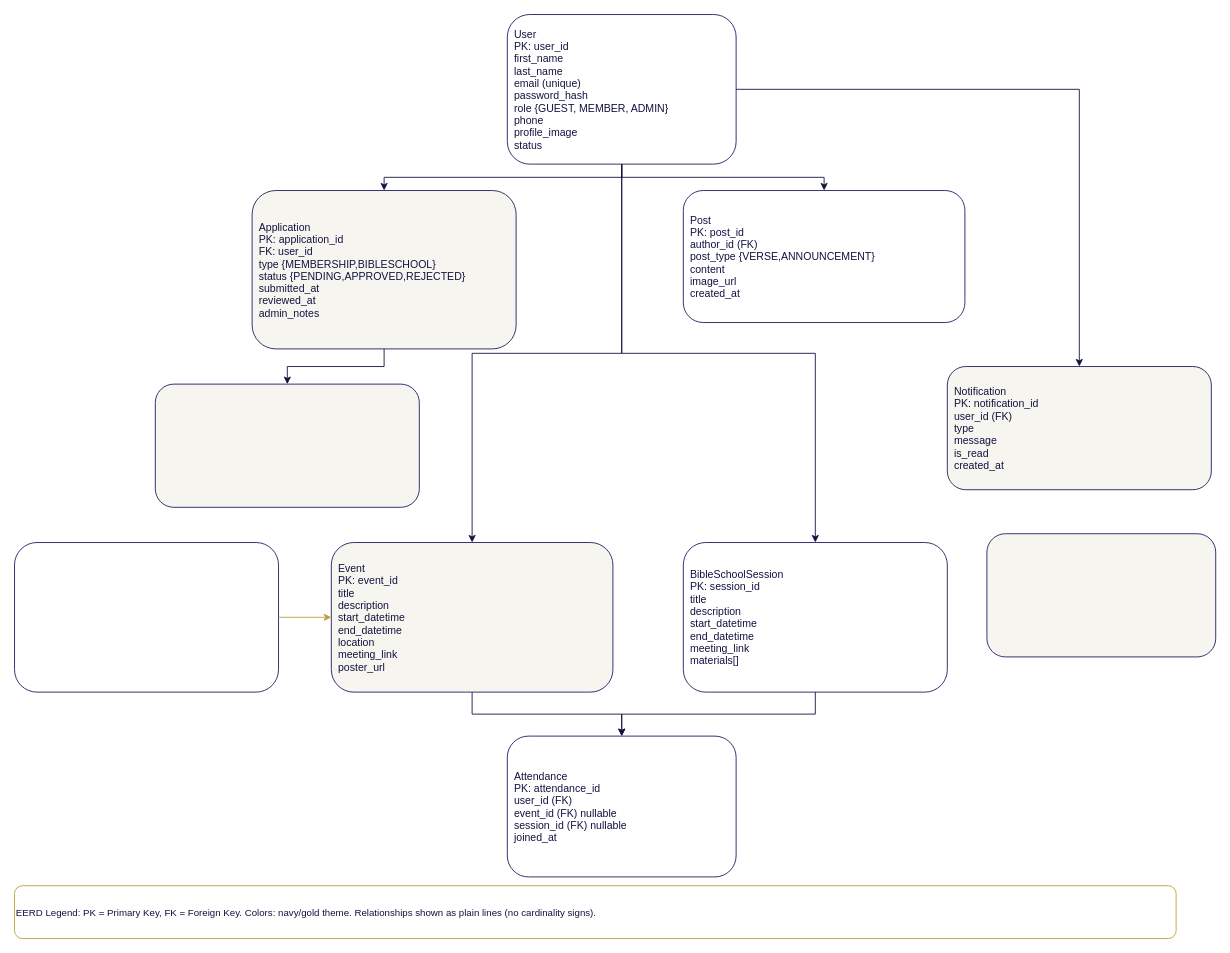
Some shapes in this 1230 by 953 pixel diagram are drawn without their labels. The centre of each missing label's shape, as x and y in pixels:
"ApplicationAttachment PK: attachment_id application_id (FK) file_url file_type" belongs at (286,445).
"Certificate PK: certificate_id title file_url issued_by issued_date" belongs at (1101,595).
"Partner PK: partner_id name logo_url website description contact_email" belongs at (146,617).
